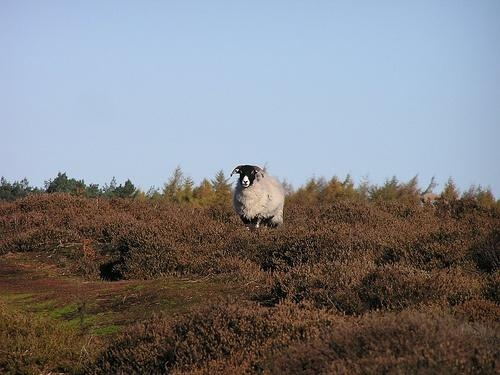sheep: (230, 164, 288, 234)
